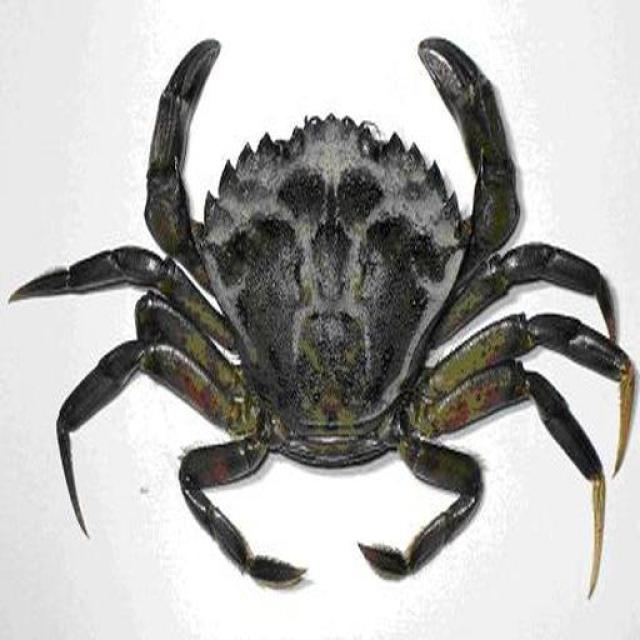European Green crab: (9, 38, 634, 595)
